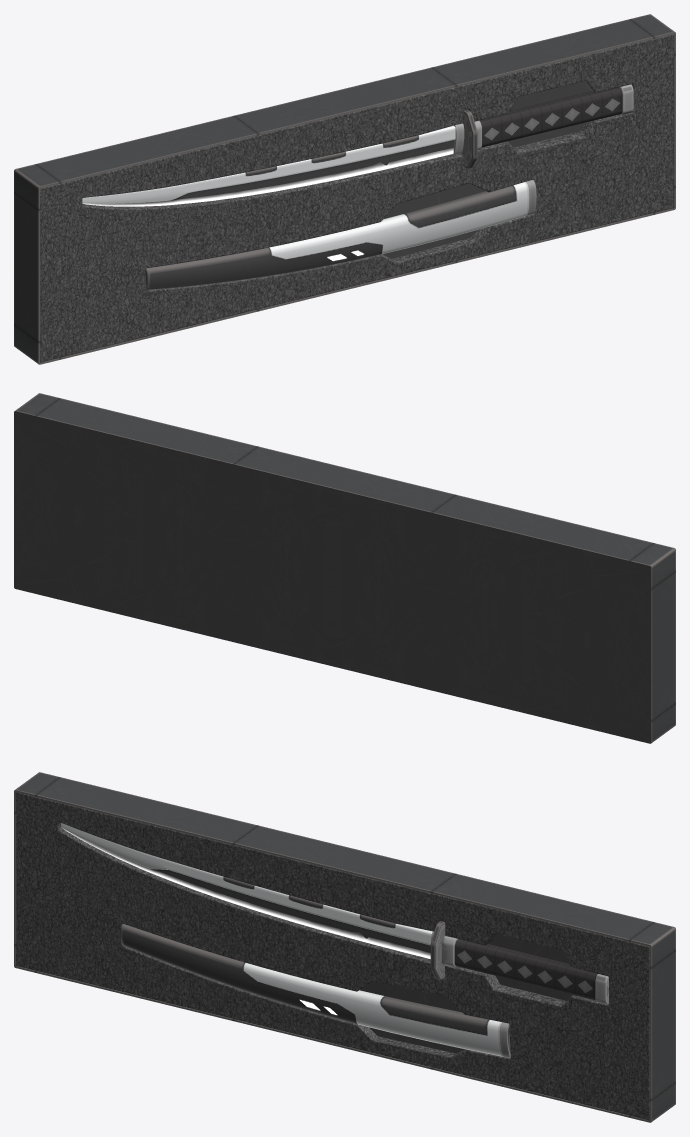
Rendered from MeleeKatana01Case.FBX.
3 renders of one model, top to bottom at view 1: azimuth 30°, elevation 25°; view 2: azimuth 150°, elevation 25°; view 3: azimuth 330°, elevation 25°, orthographic.
Visible parts, largest first — view 1: Case, Weapon; view 2: Case; view 3: Case, Weapon.
Boxes of the visible parts, bbox=[...] form: Case: bbox=[14, 14, 675, 364]; Weapon: bbox=[82, 84, 633, 289]; Case: bbox=[14, 393, 675, 743]; Case: bbox=[14, 772, 675, 1122]; Weapon: bbox=[61, 823, 608, 1058].
Size of what is drawn, in the model's own units: 1.5 by 0.3999 by 0.1373.
